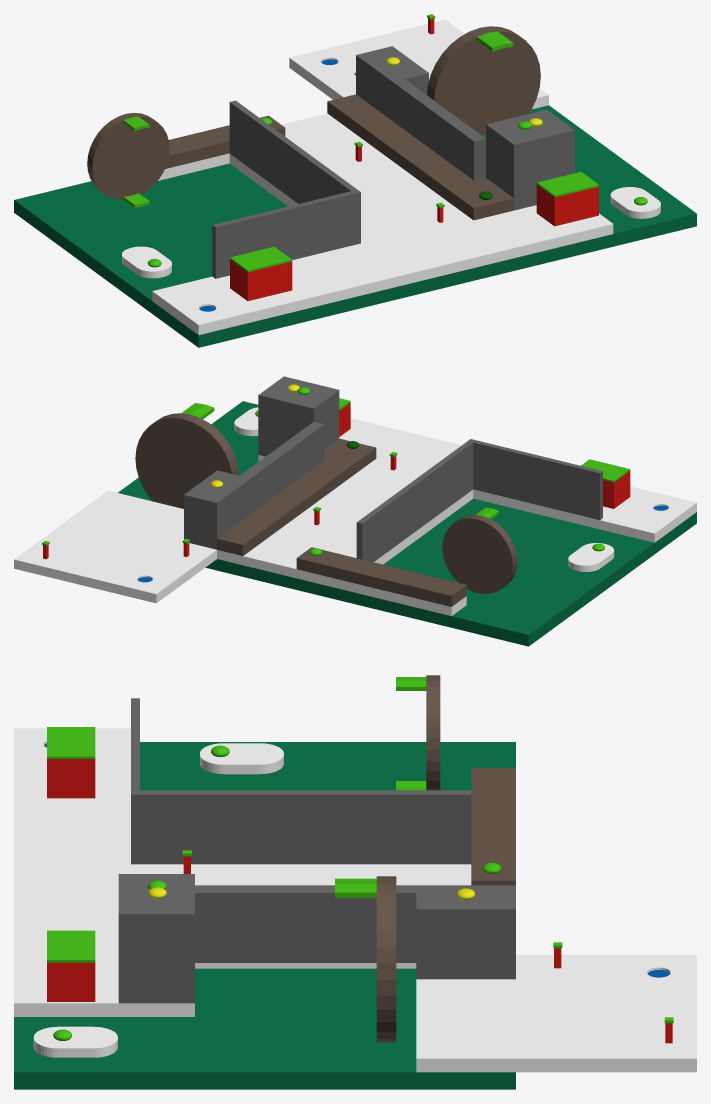
Rendered from level4.fbx.
The picture shows the model from 3 angles, top to bottom: view 1: azimuth 30°, elevation 25°; view 2: azimuth 150°, elevation 25°; view 3: azimuth 270°, elevation 25°; orthographic projection. The views are drawn at different scales.
Parts seen in each view (by area): view 1: 污染池.001, 冰面.001, 高台.003, 旋转水车.001, 高台.002, 障碍物.001, 高台.001, 旋转水车, 冰面, 障碍物, 立方体, 立方体.005 (+4 smaller); view 2: 污染池.001, 冰面.001, 高台.003, 冰面, 高台.002, 旋转水车.001, 障碍物.001, 旋转水车, 高台.001, 障碍物, 移动浮冰.001, 立方体 (+2 smaller); view 3: 污染池.001, 冰面.001, 高台.003, 高台.002, 冰面, 高台.001, 障碍物, 旋转水车.001, 移动浮冰.002, 移动浮冰.001, 立方体, 立方体.005 (+4 smaller).
Part boxes in pixels (box(x1,y1,x2,y2)): 污染池.001: box(14, 105, 696, 347); 冰面.001: box(152, 88, 613, 334); 高台.003: box(212, 100, 360, 278); 旋转水车.001: box(427, 26, 540, 135); 高台.002: box(356, 46, 485, 180); 障碍物.001: box(327, 94, 513, 220); 高台.001: box(486, 109, 574, 210); 旋转水车: box(87, 112, 169, 199); 冰面: box(289, 19, 464, 99); 障碍物: box(165, 115, 285, 168); 立方体: box(230, 259, 292, 300); 立方体.005: box(536, 185, 598, 226); 污染池.001: box(118, 401, 696, 646); 冰面.001: box(75, 418, 696, 615); 高台.003: box(356, 439, 602, 562); 冰面: box(14, 515, 216, 603); 高台.002: box(184, 421, 324, 549); 旋转水车.001: box(135, 413, 238, 508); 障碍物.001: box(217, 438, 376, 555); 旋转水车: box(442, 515, 517, 593); 高台.001: box(258, 376, 339, 456); 障碍物: box(296, 547, 466, 606); 移动浮冰.001: box(568, 543, 614, 571); 立方体: box(603, 471, 630, 508); 污染池.001: box(14, 742, 515, 1089); 冰面.001: box(14, 728, 515, 1072); 高台.003: box(131, 698, 471, 864); 高台.002: box(195, 885, 515, 979); 冰面: box(516, 955, 696, 1072); 高台.001: box(118, 874, 194, 1003); 障碍物: box(471, 768, 515, 885); 旋转水车.001: box(376, 876, 396, 1042); 移动浮冰.002: box(33, 1026, 117, 1057); 移动浮冰.001: box(200, 743, 283, 774); 立方体: box(47, 759, 95, 798); 立方体.005: box(47, 962, 95, 1001).
Bounding box in the file's own units: 5153 × 1128 × 4501.
